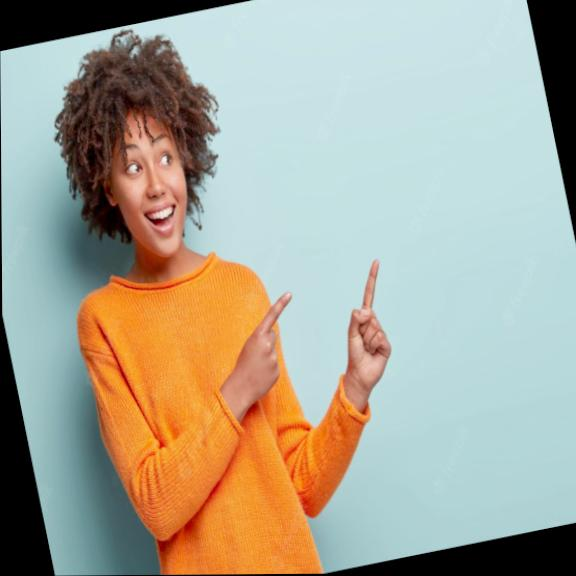no_safety_vest: (59, 239, 343, 576)
